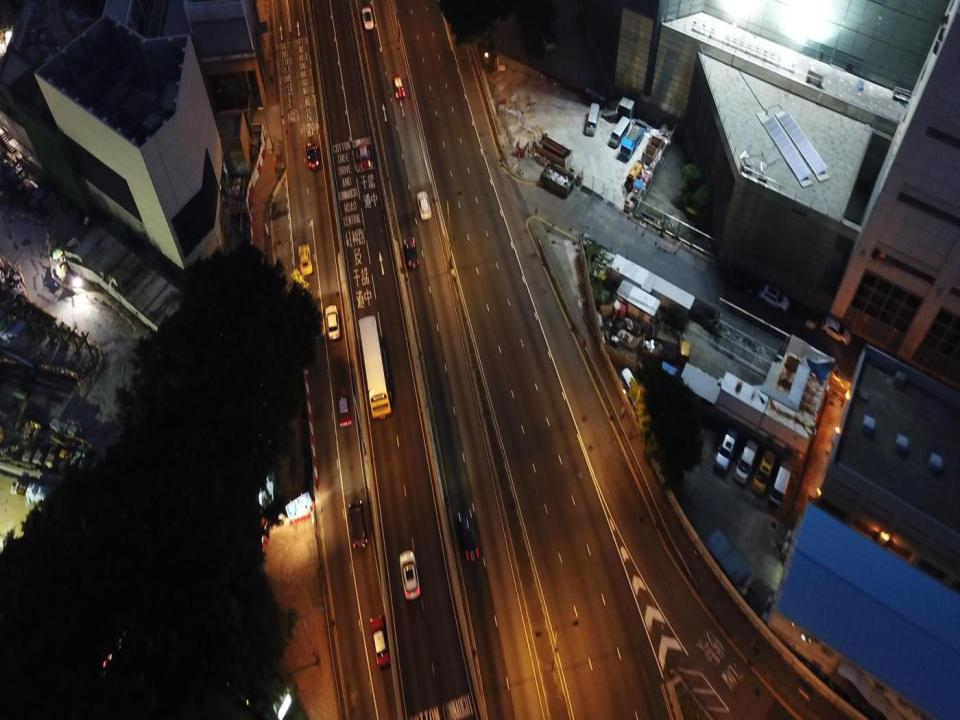bus: (356, 315, 392, 418), (610, 115, 630, 146), (585, 103, 599, 136)
car: (457, 511, 479, 563), (399, 551, 420, 598), (370, 616, 390, 665), (336, 388, 352, 426), (324, 305, 340, 339), (404, 236, 419, 268), (298, 244, 312, 275), (417, 191, 432, 219), (305, 142, 320, 169), (392, 74, 404, 98), (358, 144, 370, 168), (361, 8, 374, 29)
truck: (770, 459, 792, 503), (620, 125, 644, 159)
van: (735, 441, 758, 485), (714, 428, 738, 470), (348, 501, 368, 548), (753, 450, 775, 490)
